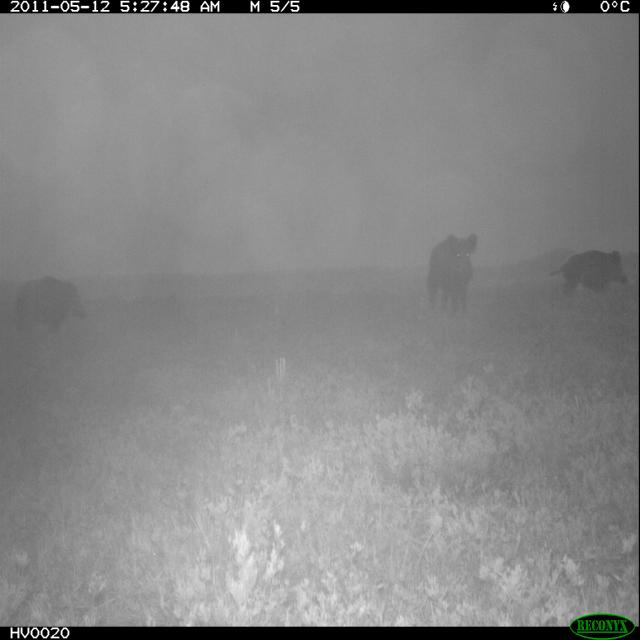boar: (404, 210, 500, 331), (554, 228, 640, 315), (5, 270, 94, 354)
